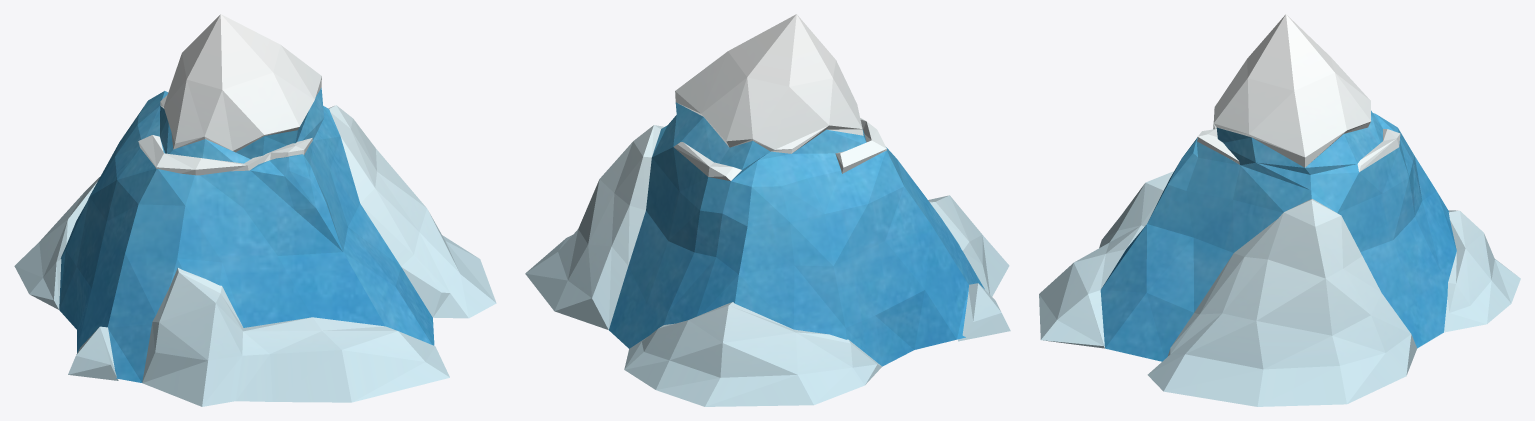
File: HX-Bingshan2.FBX
3 views of the same model, side by side, from view 1: azimuth 30°, elevation 25°; view 2: azimuth 150°, elevation 25°; view 3: azimuth 270°, elevation 25° (orthographic). The views are drawn at different scales.
Visible parts, largest first — view 1: jixue2, bingshan2; view 2: bingshan2, jixue2; view 3: jixue2, bingshan2.
Boxes of the visible parts, bbox=[...] form: jixue2: bbox=[14, 14, 496, 406]; bingshan2: bbox=[59, 88, 434, 382]; bingshan2: bbox=[609, 102, 984, 366]; jixue2: bbox=[525, 14, 1010, 406]; jixue2: bbox=[1039, 14, 1520, 406]; bingshan2: bbox=[1100, 110, 1456, 361].
Bounding box in the file's own units: 7680 × 5084 × 7879.
